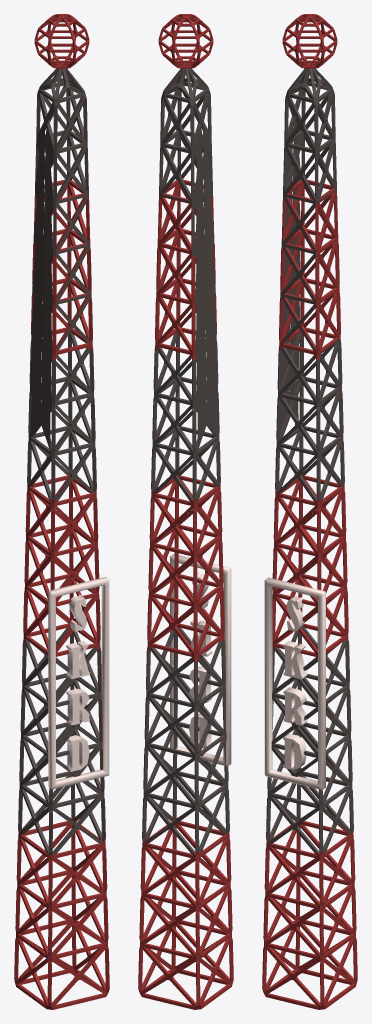
The model's file is RadioTower.fbx.
3 renders of one model, left to right at view 1: azimuth 30°, elevation 25°; view 2: azimuth 150°, elevation 25°; view 3: azimuth 330°, elevation 25°, orthographic.
Visible parts, largest first — view 1: Cube.003; view 2: Cube.003; view 3: Cube.003.
Part boxes in pixels (bbox=[...]): Cube.003: bbox=[14, 14, 109, 1009]; Cube.003: bbox=[138, 14, 233, 1009]; Cube.003: bbox=[262, 14, 357, 1009].
Bounding box in the file's own units: 6.55 × 98.06 × 6.55.
